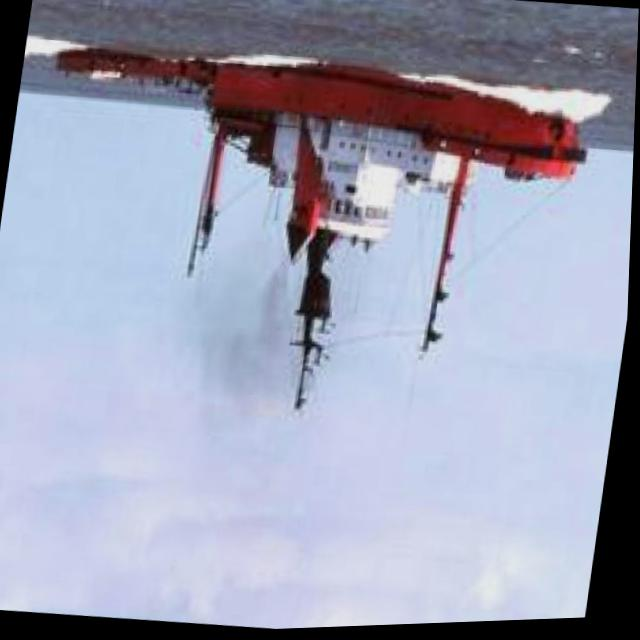ship2: (188, 58, 588, 411)
